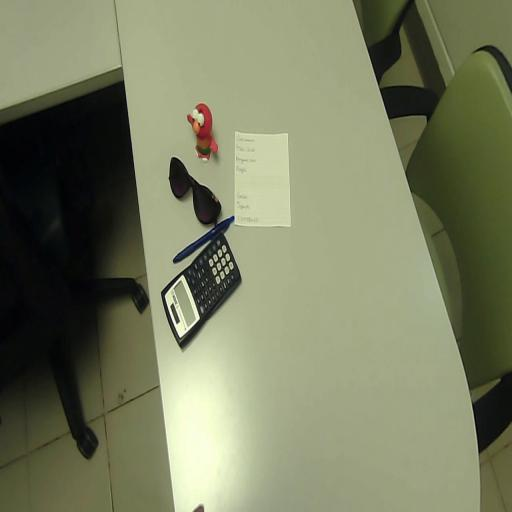pen: (173, 216, 234, 263)
